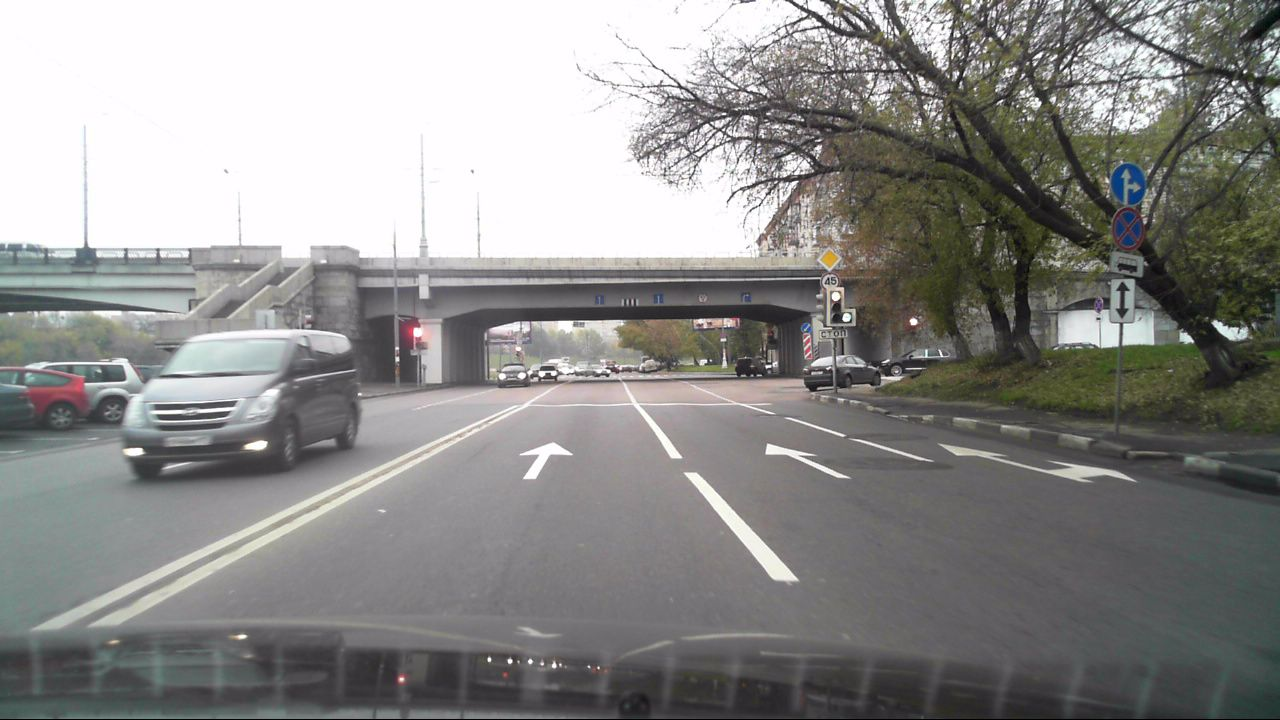No Parking: (1111, 207, 1145, 251)
